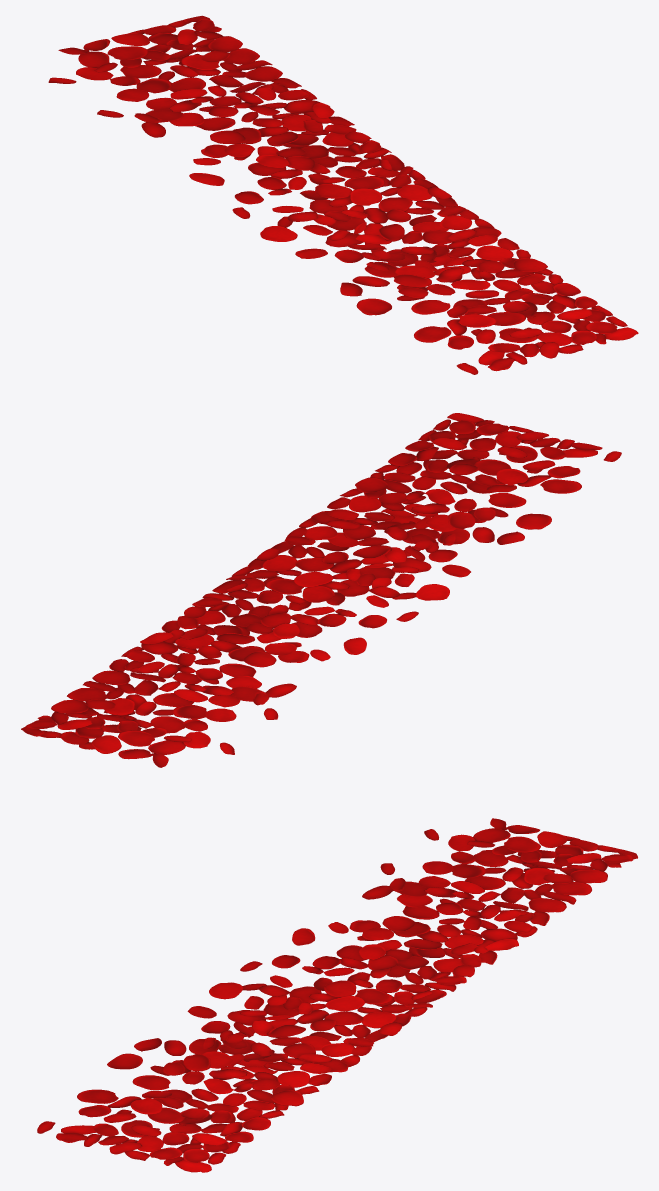
Rendered from DecorFlowerPetals01_1.FBX.
The picture shows the model from 3 angles, top to bottom: view 1: azimuth 30°, elevation 25°; view 2: azimuth 150°, elevation 25°; view 3: azimuth 330°, elevation 25°; orthographic projection.
Visible parts, largest first — view 1: DecorFlowerPetals01_1; view 2: DecorFlowerPetals01_1; view 3: DecorFlowerPetals01_1.
Part boxes in pixels (x1,y1,x2,y2): DecorFlowerPetals01_1: [48, 15, 638, 374]; DecorFlowerPetals01_1: [21, 413, 621, 767]; DecorFlowerPetals01_1: [37, 818, 637, 1172].
Size of what is drawn, in the model's own units: 0.5 by 0.00594 by 2.
